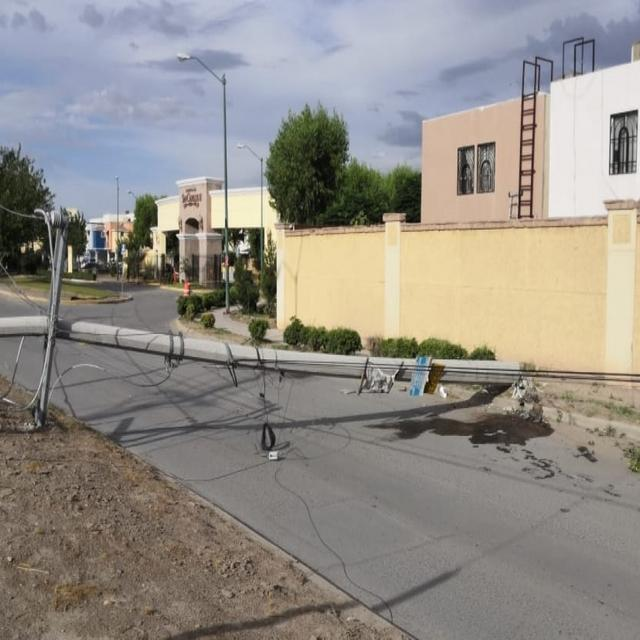Inclined Pole: (0, 202, 540, 431)
